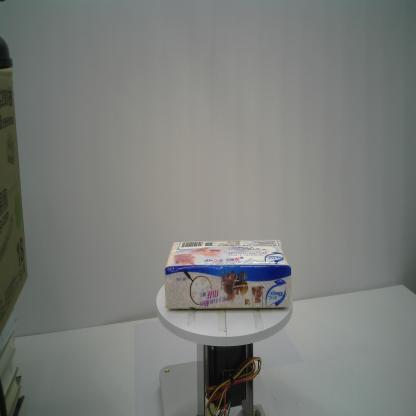Tissue: (163, 237, 294, 312)
